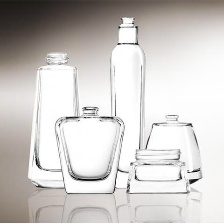bottle: (26, 50, 81, 188), (52, 102, 126, 195), (105, 14, 144, 189), (139, 111, 210, 185), (124, 146, 192, 195)
